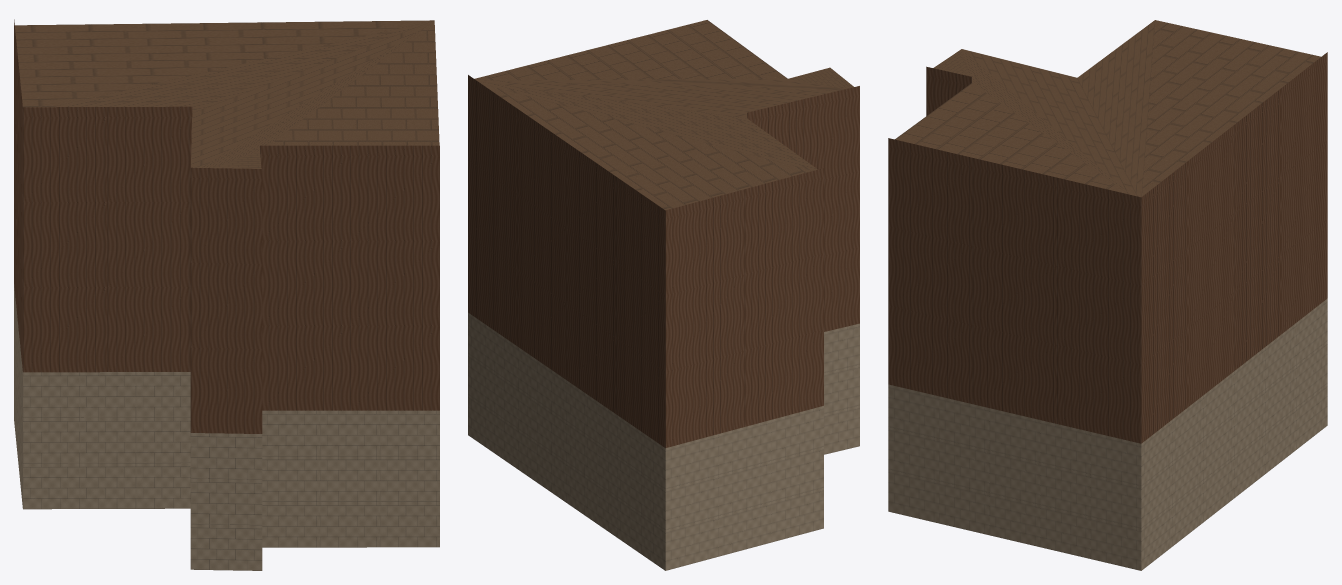
Rendered from bld_c32_-40_454.gltf.
The picture shows the model from 3 angles, left to right: view 1: azimuth 30°, elevation 25°; view 2: azimuth 150°, elevation 25°; view 3: azimuth 270°, elevation 25°; orthographic projection. The views are drawn at different scales.
Visible parts, largest first — view 1: bld_c32_-40_454; view 2: bld_c32_-40_454; view 3: bld_c32_-40_454.
Boxes of the visible parts, x1,y1,x2,y2 form: bld_c32_-40_454: (14,19,439,570); bld_c32_-40_454: (468,20,859,570); bld_c32_-40_454: (888,20,1327,570).
Bounding box in the file's own units: 15.77 × 14.98 × 15.95.
Materials: 4 (4 with a texture image).
